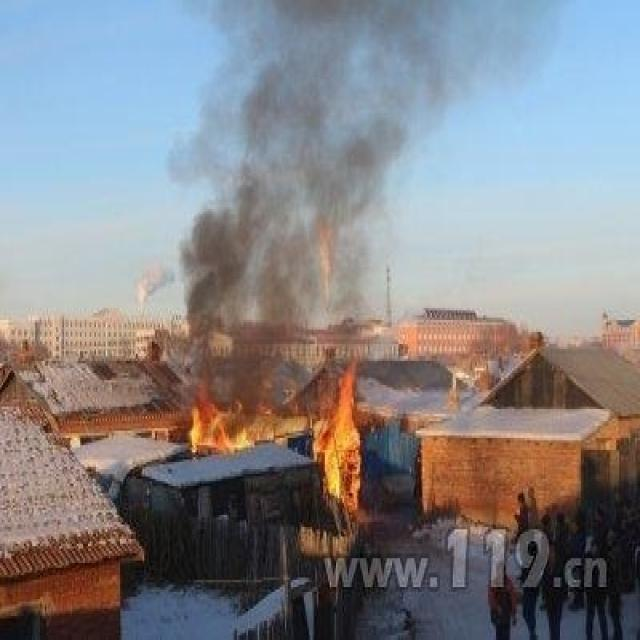Fire: (312, 361, 362, 510), (187, 404, 253, 452)
Smoke: (164, 2, 492, 364)
